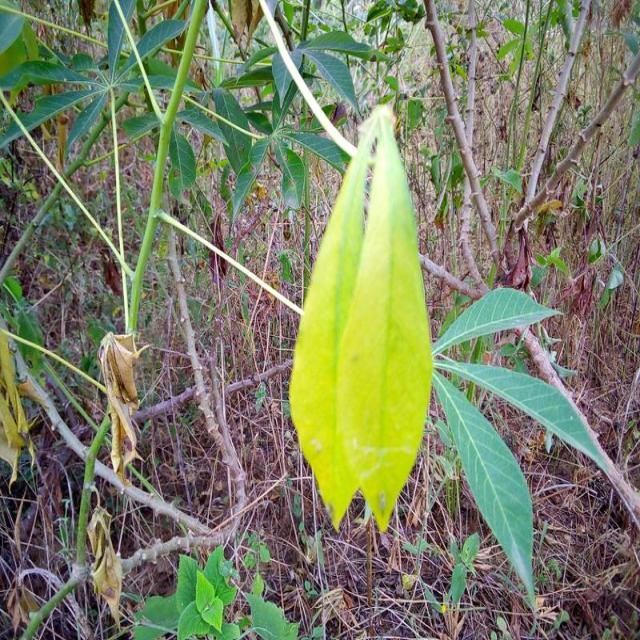cassava leaf: (287, 102, 434, 534)
